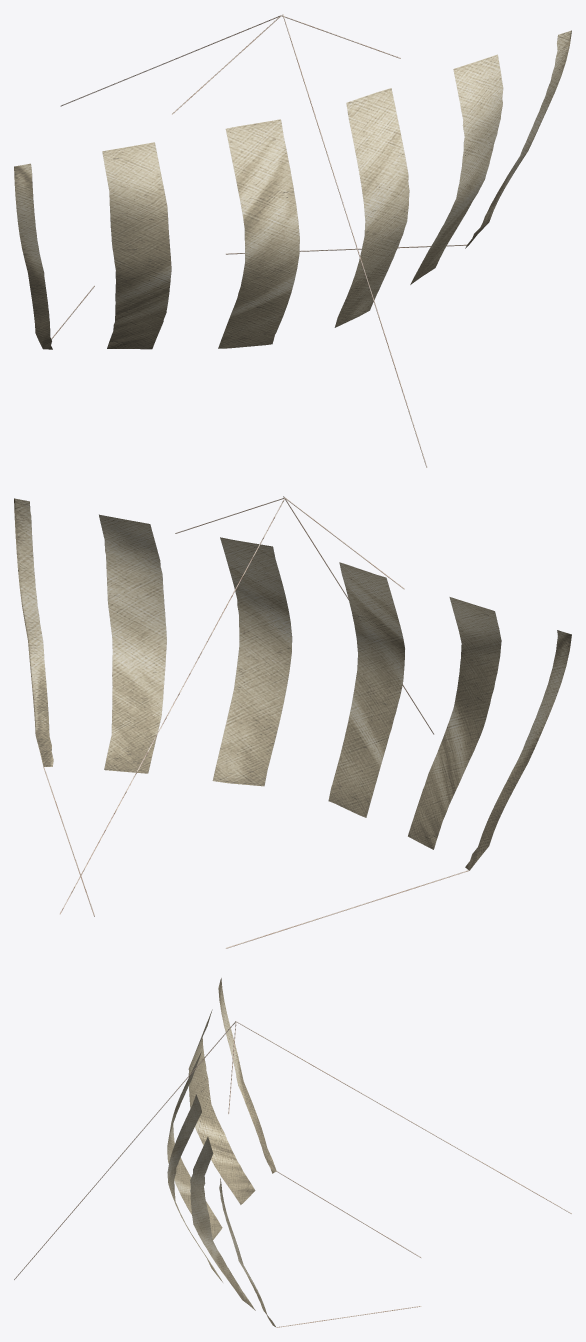
Rendered from kart_merchant_ship_sail.dae.
The picture shows the model from 3 angles, top to bottom: view 1: azimuth 30°, elevation 25°; view 2: azimuth 150°, elevation 25°; view 3: azimuth 270°, elevation 25°; orthographic projection. The views are drawn at different scales.
Visible parts, largest first — view 1: Circle_001; view 2: Circle_001; view 3: Circle_001.
Boxes of the visible parts, bbox=[...] form: Circle_001: bbox=[14, 14, 571, 467]; Circle_001: bbox=[14, 496, 571, 948]; Circle_001: bbox=[14, 978, 571, 1327].
Bounding box in the file's own units: 20.4 × 12.11 × 23.46.
